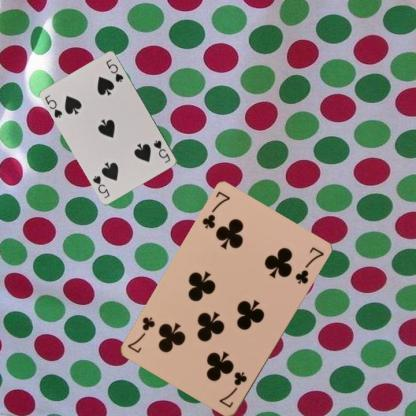5s: (42, 92, 64, 119), (150, 138, 172, 164)
7c: (199, 189, 232, 230), (216, 369, 248, 410)
